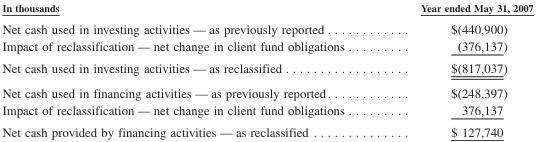table: (1, 1, 532, 138)
table column: (1, 1, 381, 138), (381, 1, 532, 138)
table column header: (1, 1, 532, 17)
table row: (1, 56, 532, 80), (1, 80, 532, 101), (1, 36, 532, 56), (1, 17, 532, 36), (1, 101, 532, 120), (1, 120, 532, 138), (1, 1, 532, 17)
